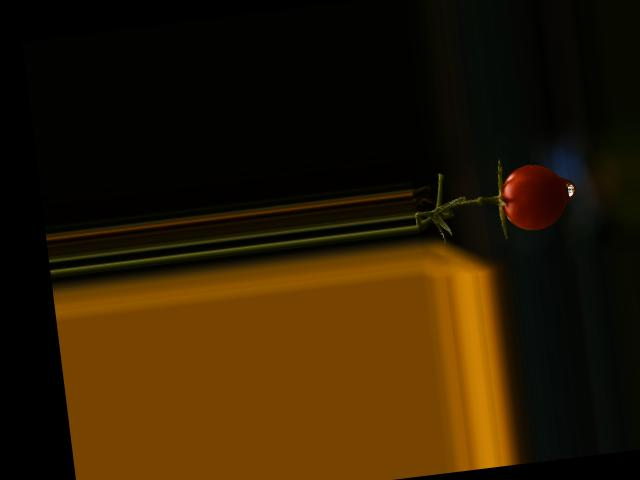tomato: (497, 160, 569, 233)
